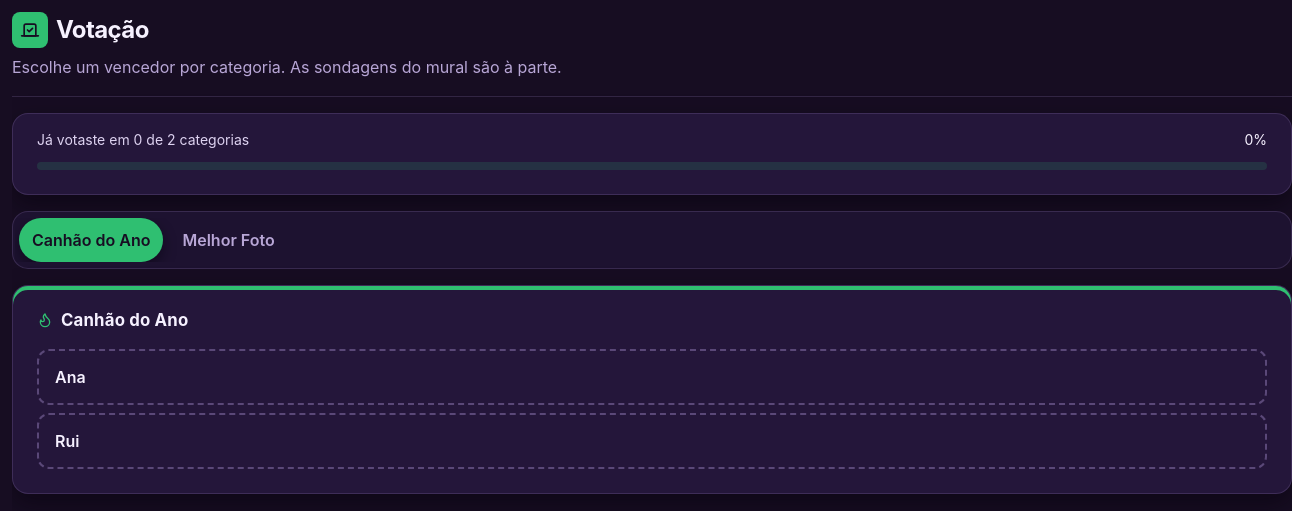
Test: CanhoesOfficialVotingModule › sends the vote and counts it before the server answers
This screenshot has width=1292, height=511.
Click the button "Rui" at (67, 441), box [37,412,1267,468]
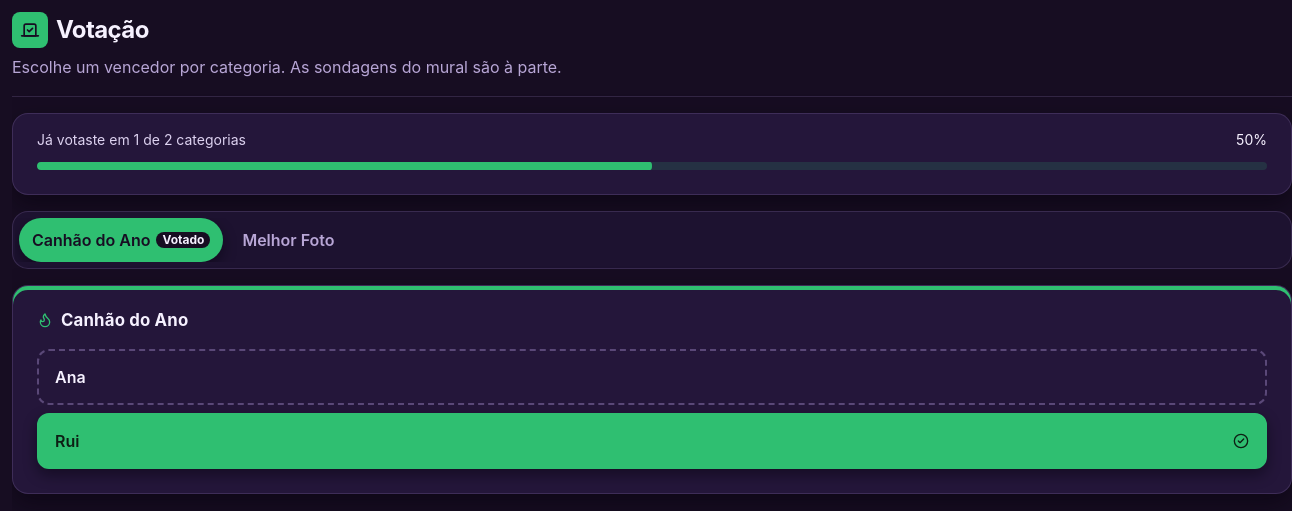
Expected: the text "Já votaste em 1 de 2 categorias" is shown, [37,130,246,150]
Expected: the text "Votado" is shown, [156,232,210,248]
